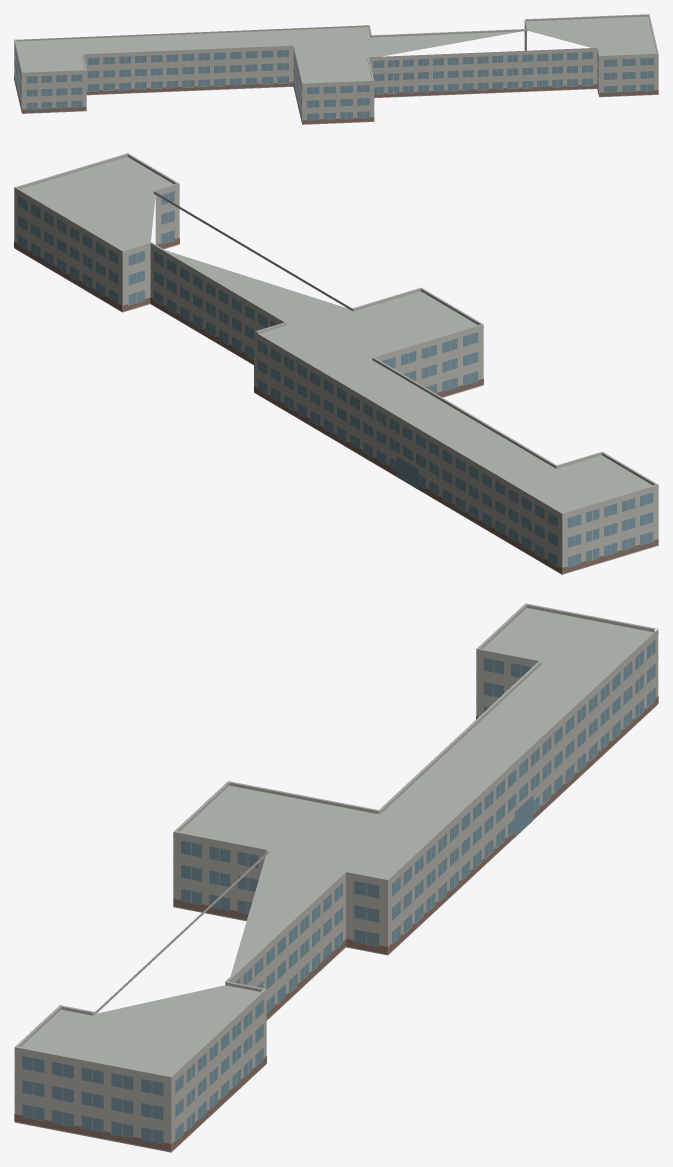
File: public-3911a3be-7769-491a-bf93-725c87f58cee.glb
3 renders of one model, top to bottom at view 1: azimuth 30°, elevation 25°; view 2: azimuth 150°, elevation 25°; view 3: azimuth 270°, elevation 25°, orthographic. The views are drawn at different scales.
Parts seen in each view (by area): view 1: public-3911a3be-7769-491a-bf93-725c87f58cee; view 2: public-3911a3be-7769-491a-bf93-725c87f58cee; view 3: public-3911a3be-7769-491a-bf93-725c87f58cee.
Boxes of the visible parts, x1,y1,x2,y2 form: public-3911a3be-7769-491a-bf93-725c87f58cee: (14,14,658,124); public-3911a3be-7769-491a-bf93-725c87f58cee: (14,153,658,574); public-3911a3be-7769-491a-bf93-725c87f58cee: (14,603,658,1152).
Bounding box in the file's own units: 124 × 9.15 × 70.97.
